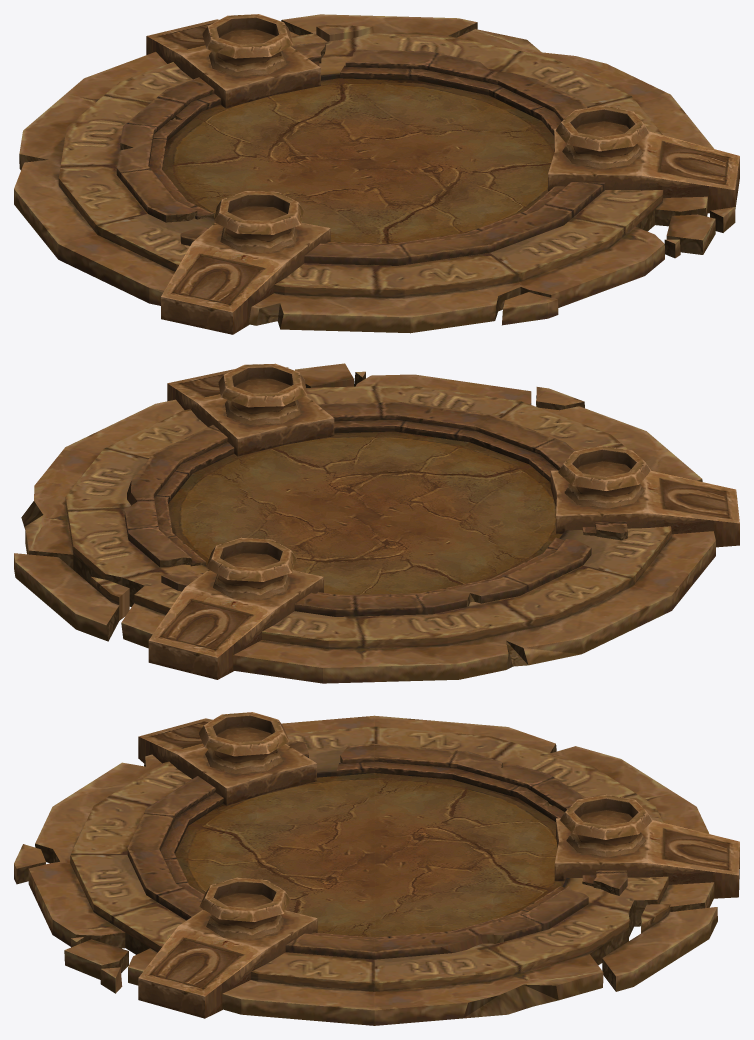
Rendered from theme02_quest_seal_setting_001.FBX.
3 views of the same model, one above another, from view 1: azimuth 30°, elevation 25°; view 2: azimuth 150°, elevation 25°; view 3: azimuth 270°, elevation 25° (orthographic).
Parts seen in each view (by area): view 1: theme02_quest_seal; view 2: theme02_quest_seal; view 3: theme02_quest_seal.
Part boxes in pixels (x1,y1,x2,y2): theme02_quest_seal: (14,14,739,334); theme02_quest_seal: (14,363,739,683); theme02_quest_seal: (14,712,739,1025).
Size of the model in its own units: 4.77 by 0.5316 by 4.97.
